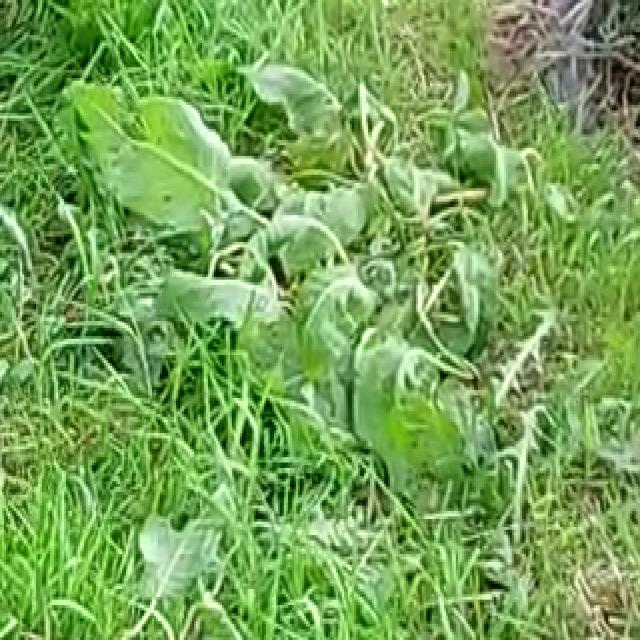organic waste: (202, 94, 522, 557), (58, 19, 408, 384)
